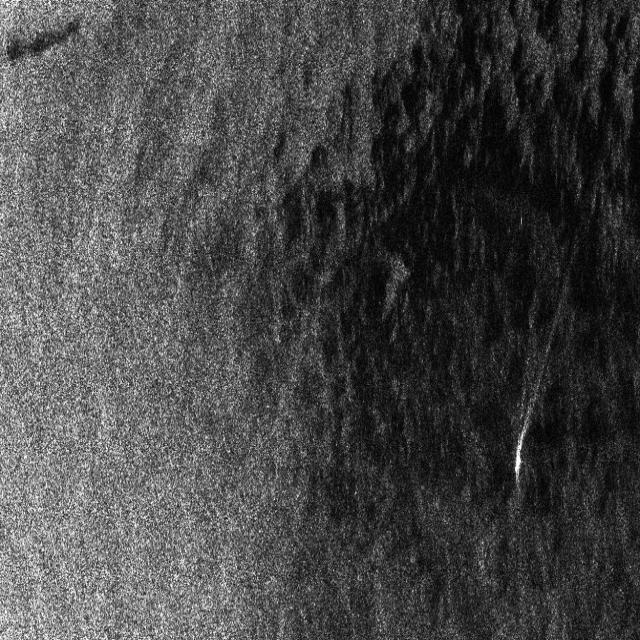look-alike: (260, 45, 500, 545), (503, 55, 640, 387)
oil-spill: (5, 11, 84, 78)
ship: (506, 422, 529, 496)
